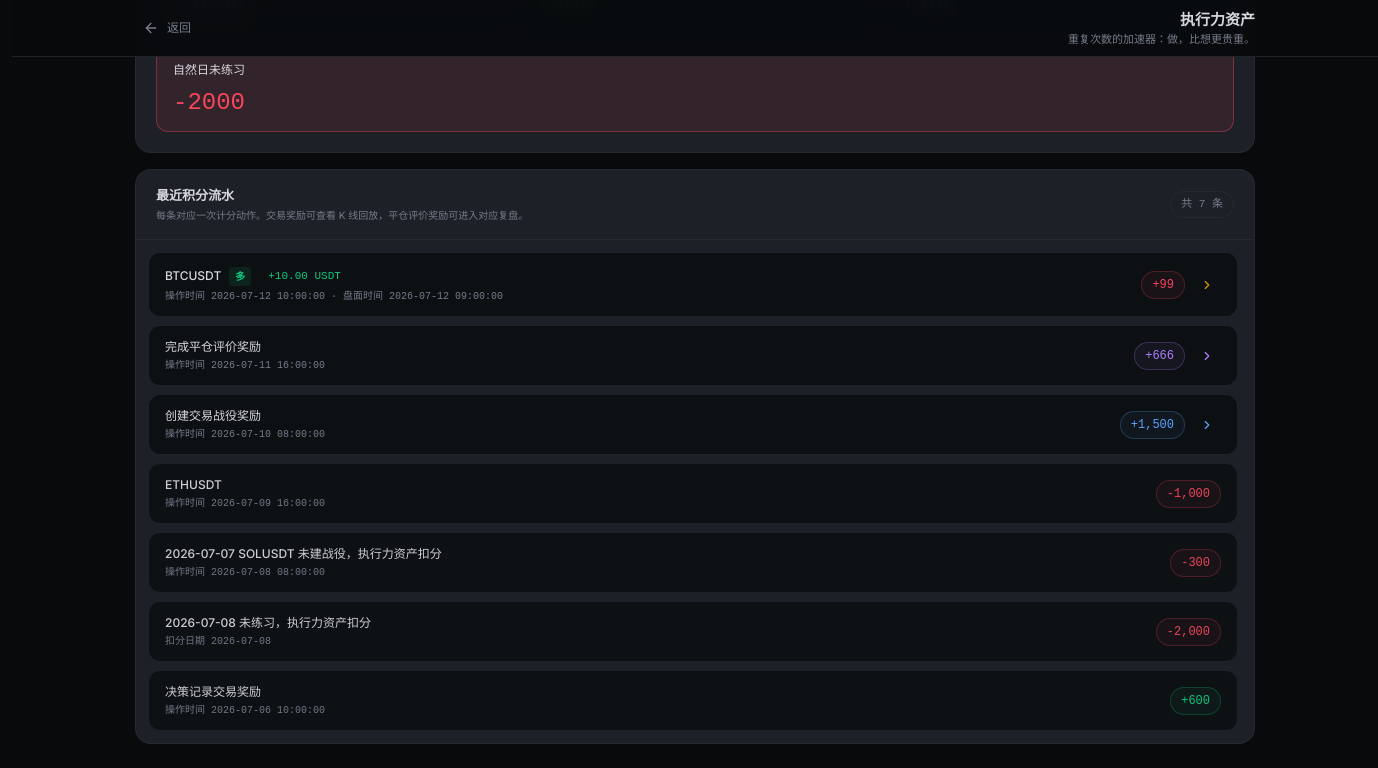
ExecutionAssetsPage review reward › opens the corresponding campaign when its reward score is clicked
(page scrolled)
Check: the list item "创建交易战役奖励 操作时间 2026-07-10 08:00:00 +1,500" is shown, box left=148, top=394, right=1238, bottom=455
What coordinates should you click on to do the following:
click the text "+1,500"
I would click on:
 (1152, 425)
Its box is left=1120, top=411, right=1185, bottom=439.
(page scrolled)
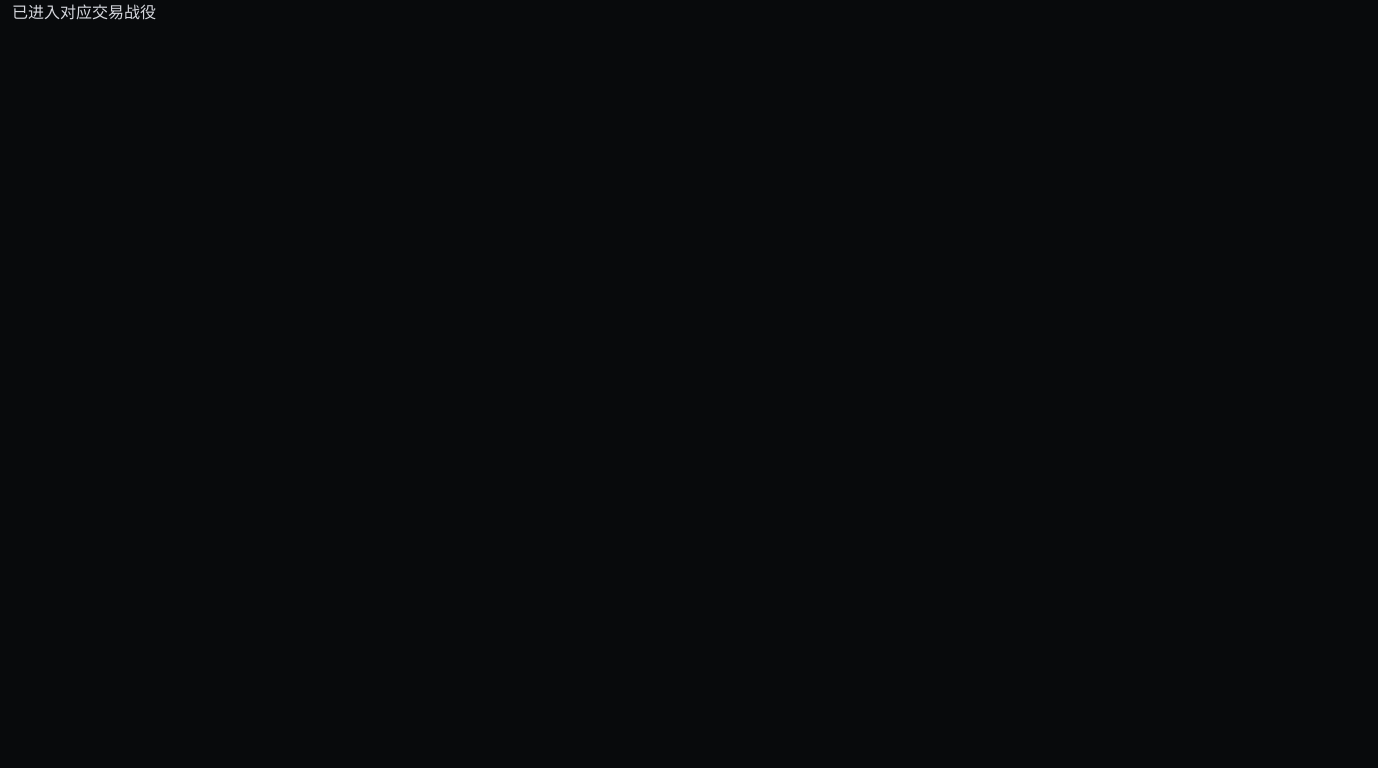
Check: the text "已进入对应交易战役" is shown, box left=12, top=2, right=156, bottom=22
